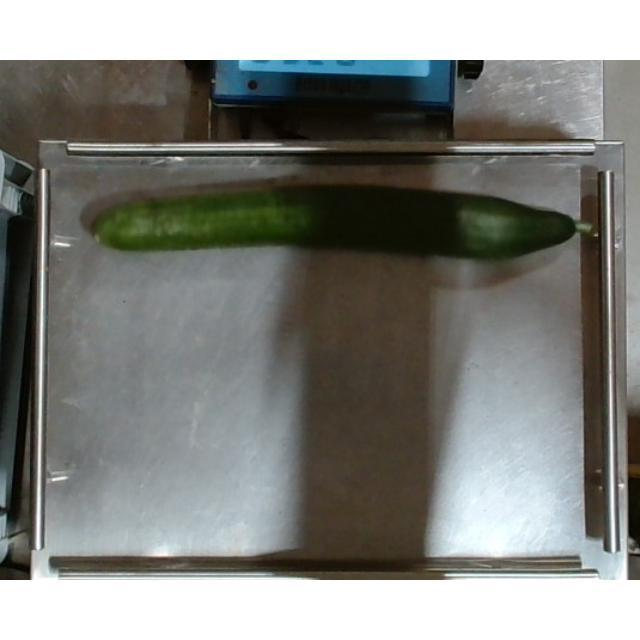cucumber: (93, 183, 595, 265)
